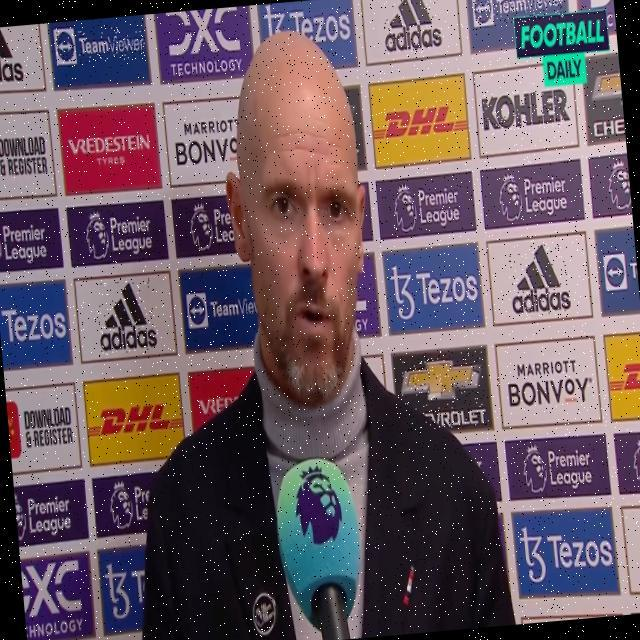Adidas: (506, 240, 573, 317), (94, 278, 160, 355), (380, 0, 443, 54)
Chevrolet: (399, 349, 489, 432)
Kohler: (479, 87, 572, 134)
TeamViewer: (54, 21, 147, 65), (471, 0, 564, 25)
